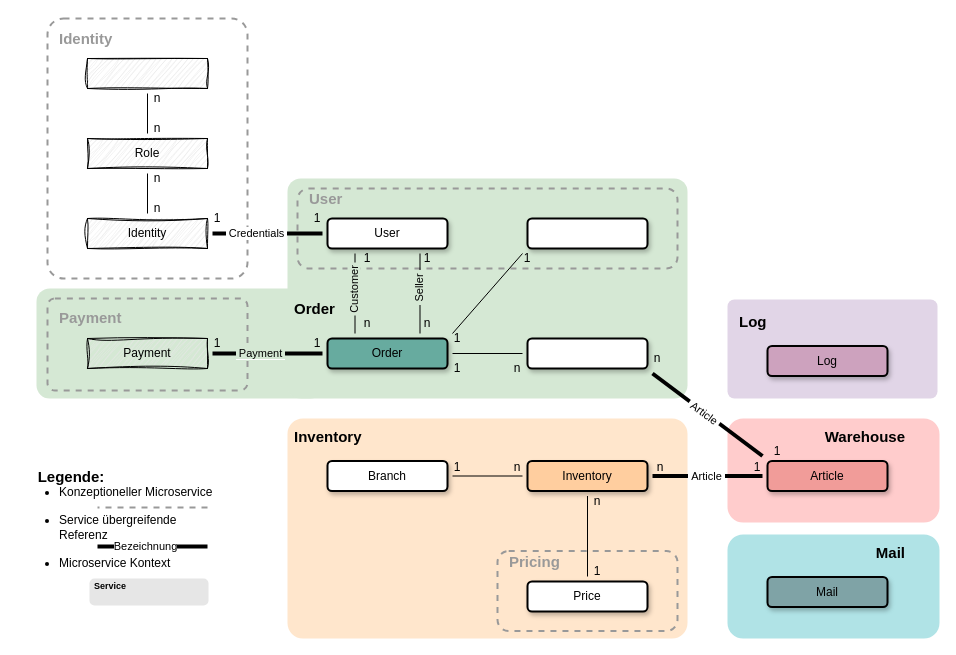
This 956x655 diagram has some shape labels left out. Here are the shapes that lost their labels. From the top down, the centre of each, then its label:
the point at 147,73: Permission
the point at 588,234: Adress
the point at 588,354: Position
